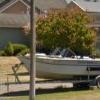Boat: (20, 44, 98, 86)
